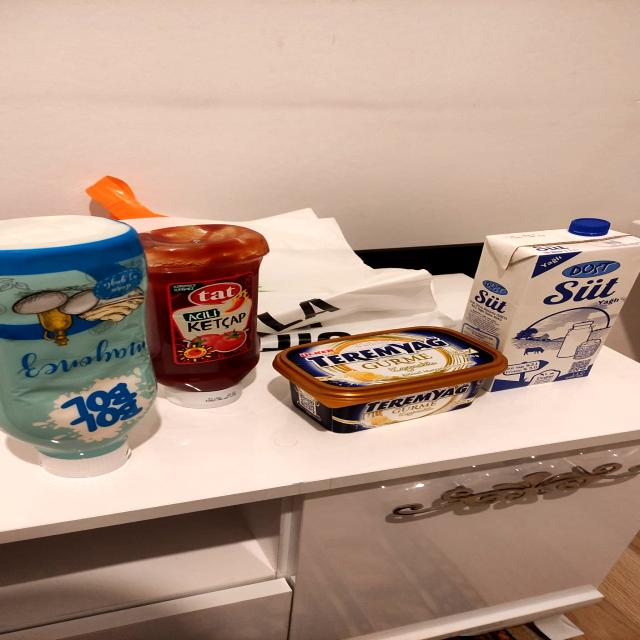ketchup: (130, 221, 268, 405)
margarine: (276, 324, 503, 420)
mayonnaise: (0, 214, 168, 469)
milk: (466, 213, 640, 390)
